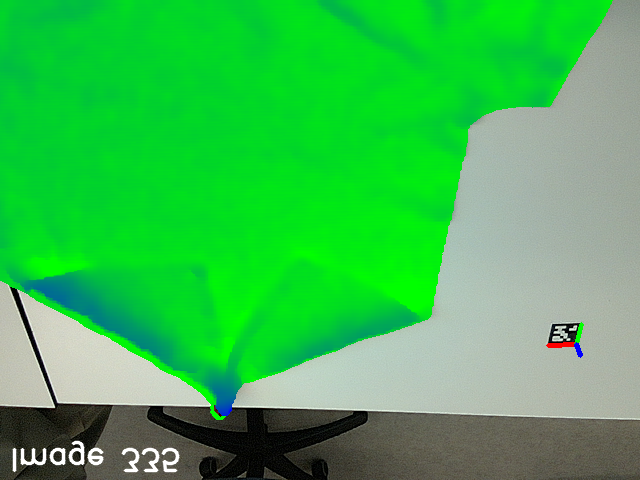V: (269, 243, 337, 300), (149, 242, 218, 297)
